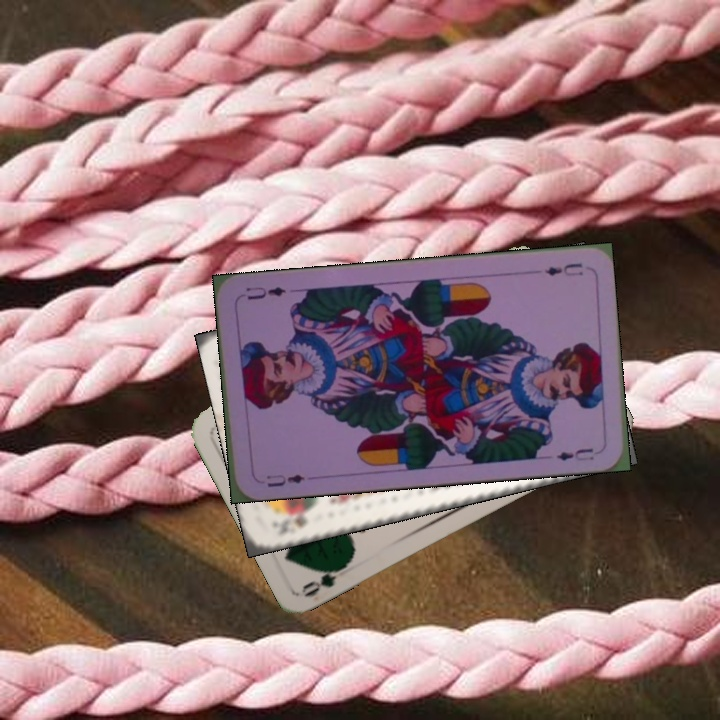EU: (262, 470, 308, 490), (540, 259, 586, 279)
GO: (298, 558, 352, 599)
SK: (279, 505, 316, 536)
